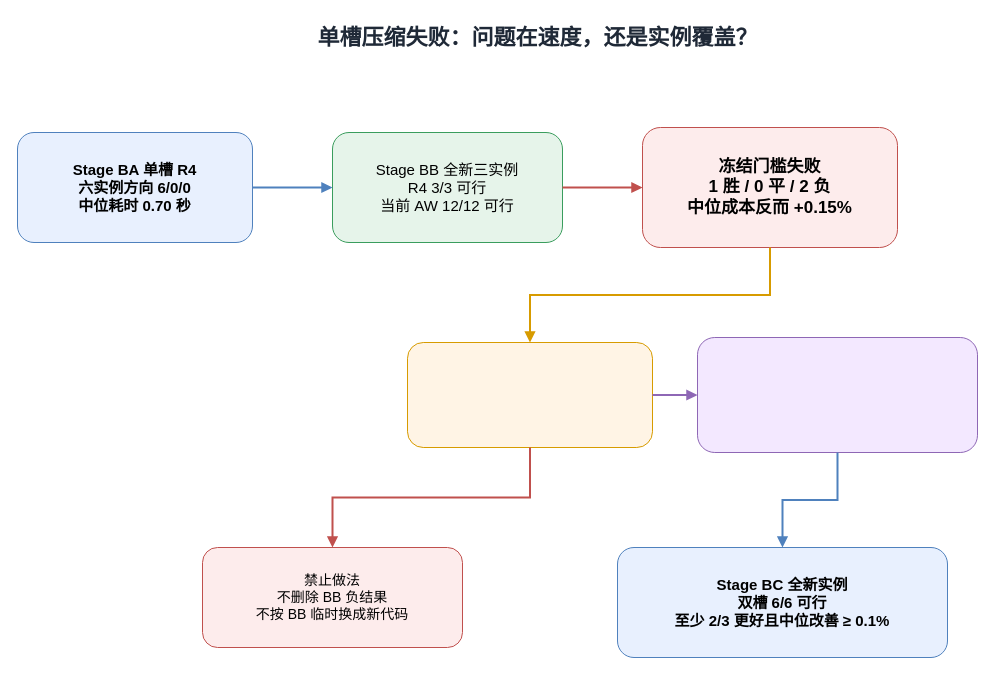
This 995x675 diagram has some shape labels left out. The shapes that lost their labels are listed below. From the top down, each one's centre as x and y in pixels, then its label:
At point (529, 395): "机制判断 失败不是超时 单一路线行为覆盖不足".
At point (837, 394): "BA 已预先记录的快速双槽 R2 + R4 两条中位耗时均低于 0.75 秒".
